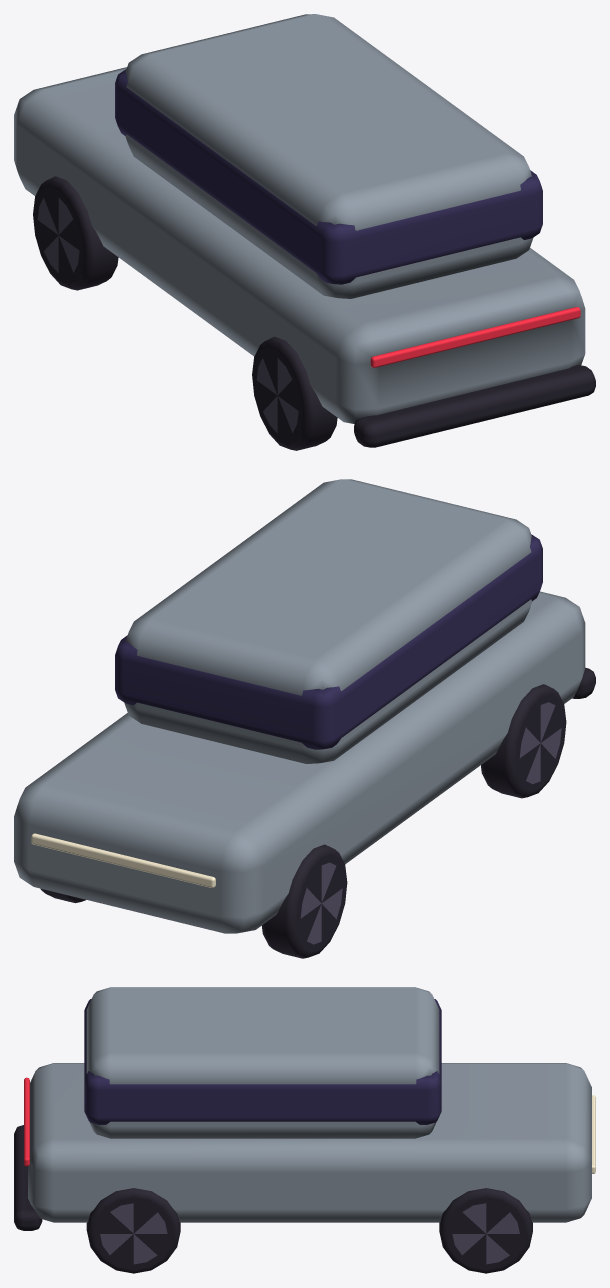
The model's file is suv.glb.
3 views of the same model, one above another, from view 1: azimuth 30°, elevation 25°; view 2: azimuth 150°, elevation 25°; view 3: azimuth 270°, elevation 25° (orthographic). The views are drawn at different scales.
Parts seen in each view (by area): view 1: body, glass, wheel_rl_mesh, wheel_fl_mesh, lights; view 2: body, glass, wheel_rl_mesh, wheel_fl_mesh, lights; view 3: body, glass, wheel_rr_mesh, wheel_fr_mesh, lights.
Part boxes in pixels (box(x1,y1,x2,y2)): body: box(14, 14, 595, 447); glass: box(115, 69, 542, 284); wheel_rl_mesh: box(252, 336, 337, 450); wheel_fl_mesh: box(33, 176, 118, 290); lights: box(370, 307, 580, 367); body: box(14, 479, 595, 933); glass: box(115, 534, 542, 749); wheel_rl_mesh: box(481, 684, 566, 798); wheel_fl_mesh: box(262, 844, 347, 958); lights: box(31, 833, 215, 887); body: box(14, 987, 591, 1230); glass: box(84, 999, 441, 1124); wheel_rr_mesh: box(86, 1188, 180, 1273); wheel_fr_mesh: box(439, 1188, 532, 1273); lights: box(24, 1077, 595, 1173).
Bounding box in the file's own units: 2.08 × 1.92 × 4.96.
